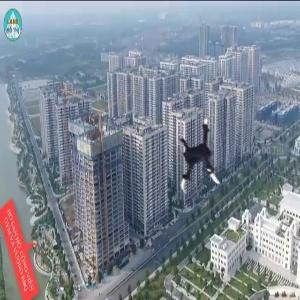drone: (163, 119, 246, 202)
